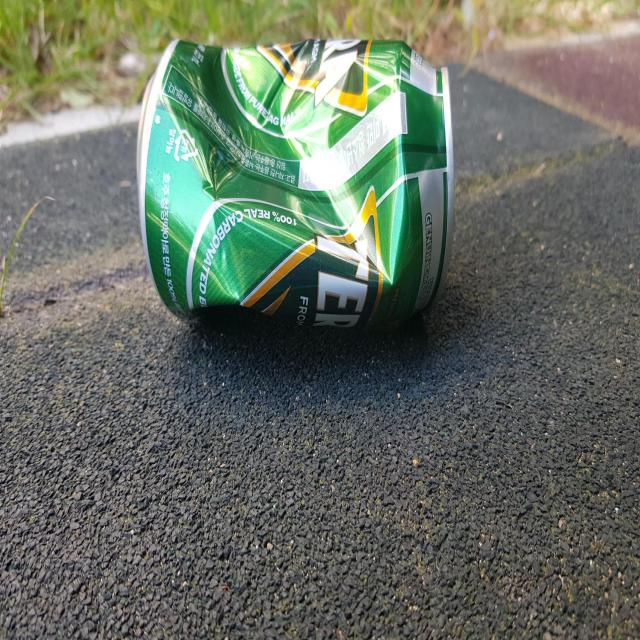can: (136, 37, 455, 326)
